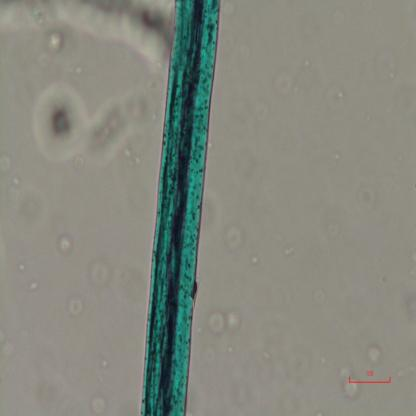Background material: (30, 83, 155, 160), (44, 0, 172, 65), (280, 343, 312, 385), (0, 1, 42, 30), (83, 255, 114, 293), (270, 60, 296, 102), (209, 306, 243, 336), (352, 335, 386, 364), (338, 365, 360, 399), (324, 78, 348, 109), (354, 186, 383, 211), (42, 28, 63, 56), (227, 222, 246, 252), (56, 230, 74, 260), (21, 200, 44, 222), (66, 296, 86, 318), (326, 215, 342, 240), (89, 391, 107, 412), (245, 249, 262, 268), (280, 240, 297, 255), (10, 175, 23, 189), (100, 353, 110, 369), (259, 349, 270, 362), (0, 158, 11, 171), (32, 280, 39, 294), (19, 264, 27, 276)
Microfibre: (139, 1, 223, 415)
